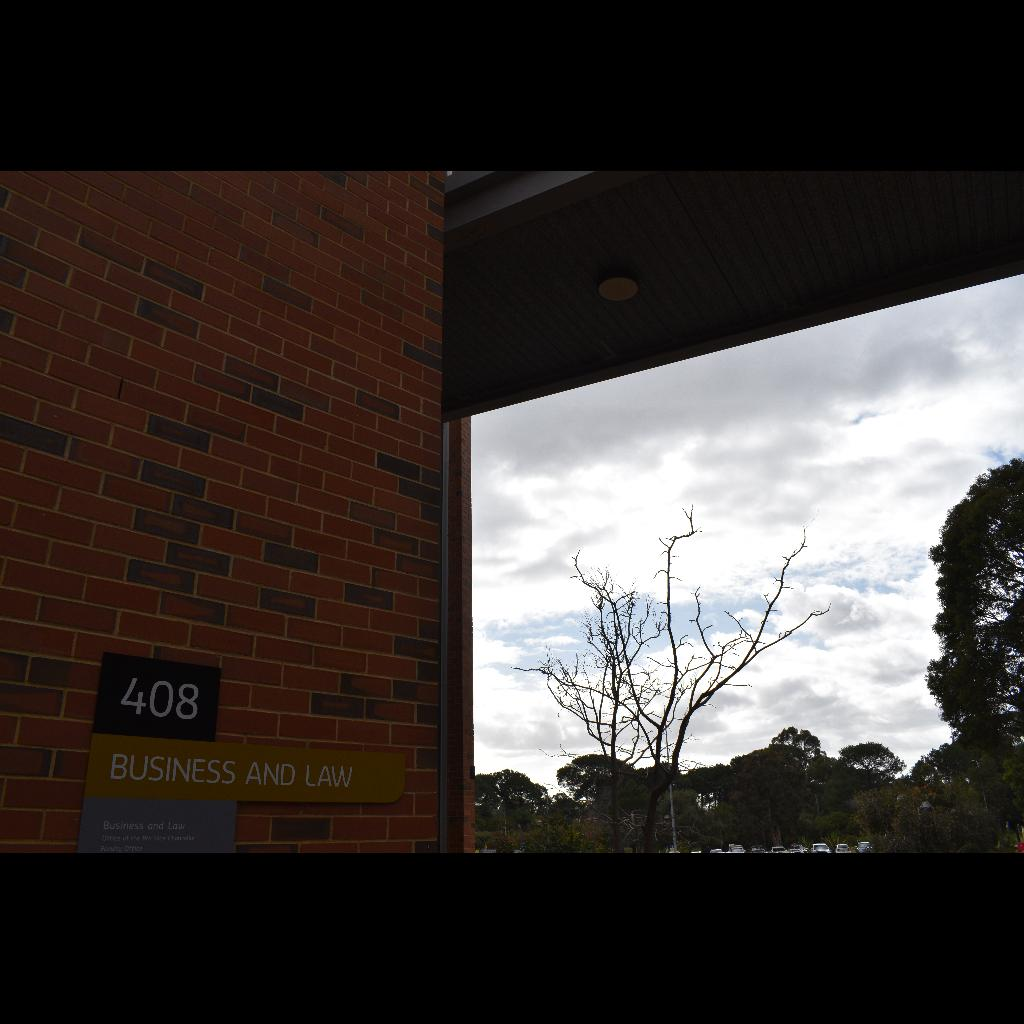BuildingCodes: (116, 673, 204, 723)
